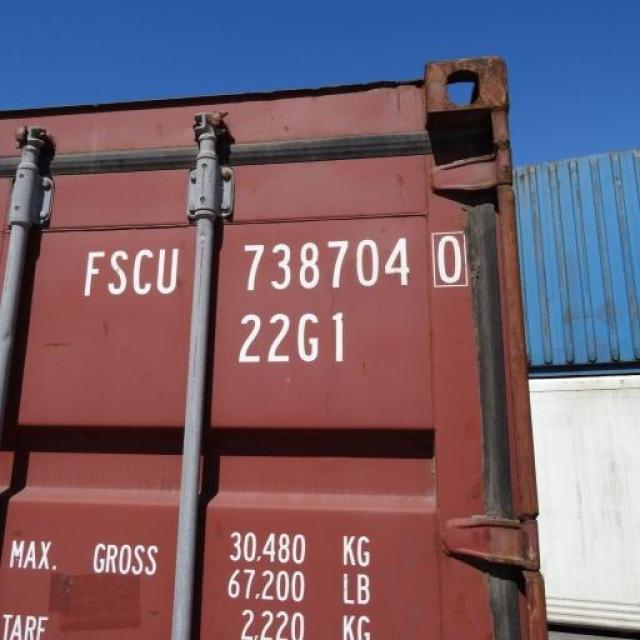ISO: (232, 306, 358, 359)
container_number: (66, 232, 465, 296)
